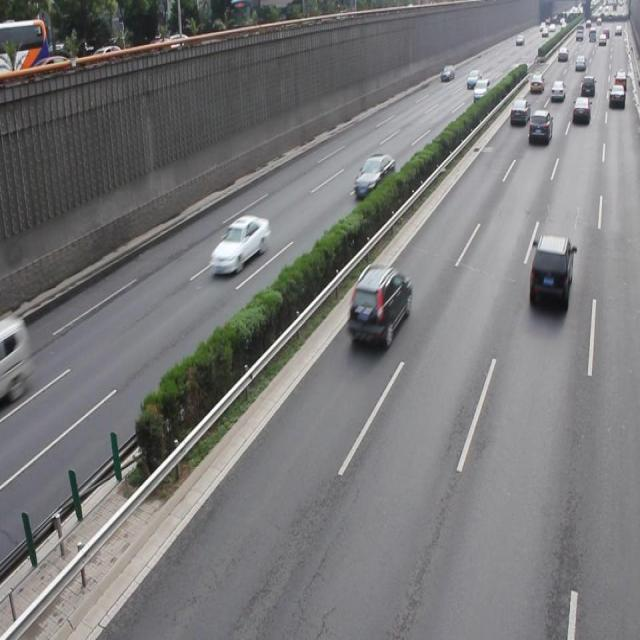car: (347, 262, 411, 346), (210, 214, 270, 275), (527, 233, 571, 311), (352, 153, 394, 199)
